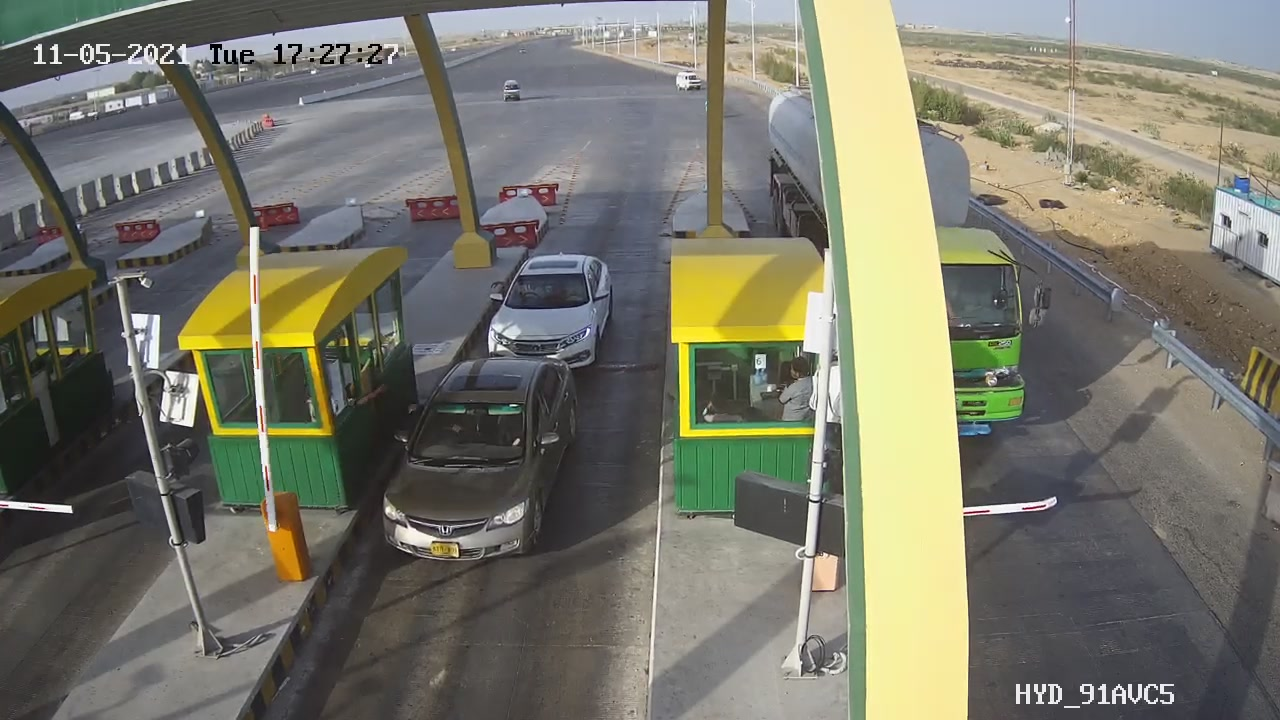F1: (368, 346, 594, 574), (477, 239, 630, 385)
